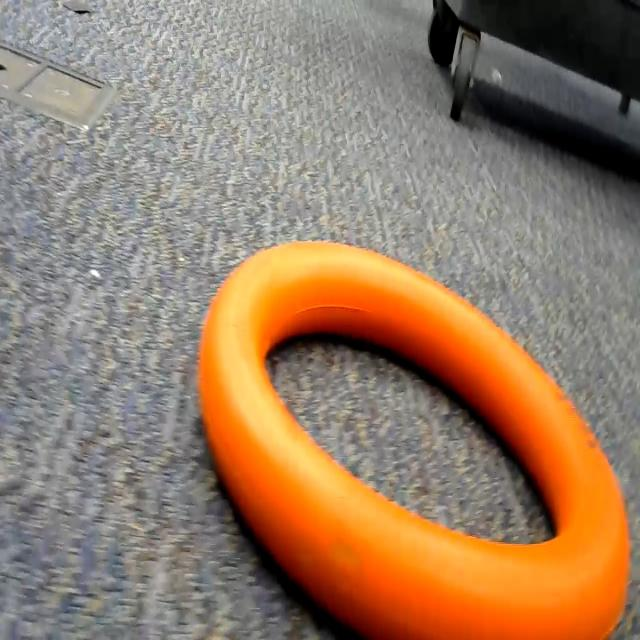note: (199, 233, 640, 640)
